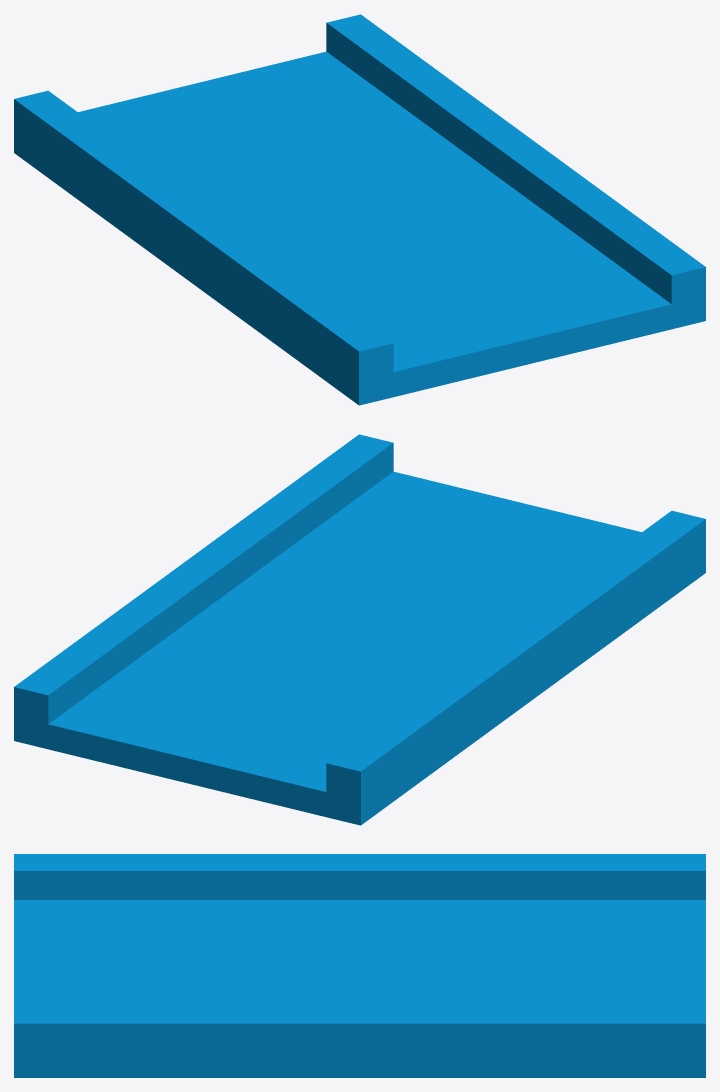
File: Bridge_06.fbx
The picture shows the model from 3 angles, top to bottom: view 1: azimuth 30°, elevation 25°; view 2: azimuth 150°, elevation 25°; view 3: azimuth 270°, elevation 25°; orthographic projection.
Parts seen in each view (by area): view 1: Bridge_06; view 2: Bridge_06; view 3: Bridge_06.
Part boxes in pixels (x1,y1,x2,y2): Bridge_06: (14,14,705,405); Bridge_06: (14,434,705,825); Bridge_06: (14,854,705,1077).
Size of the model in its own units: 15.31 by 2.28 by 26.4.
